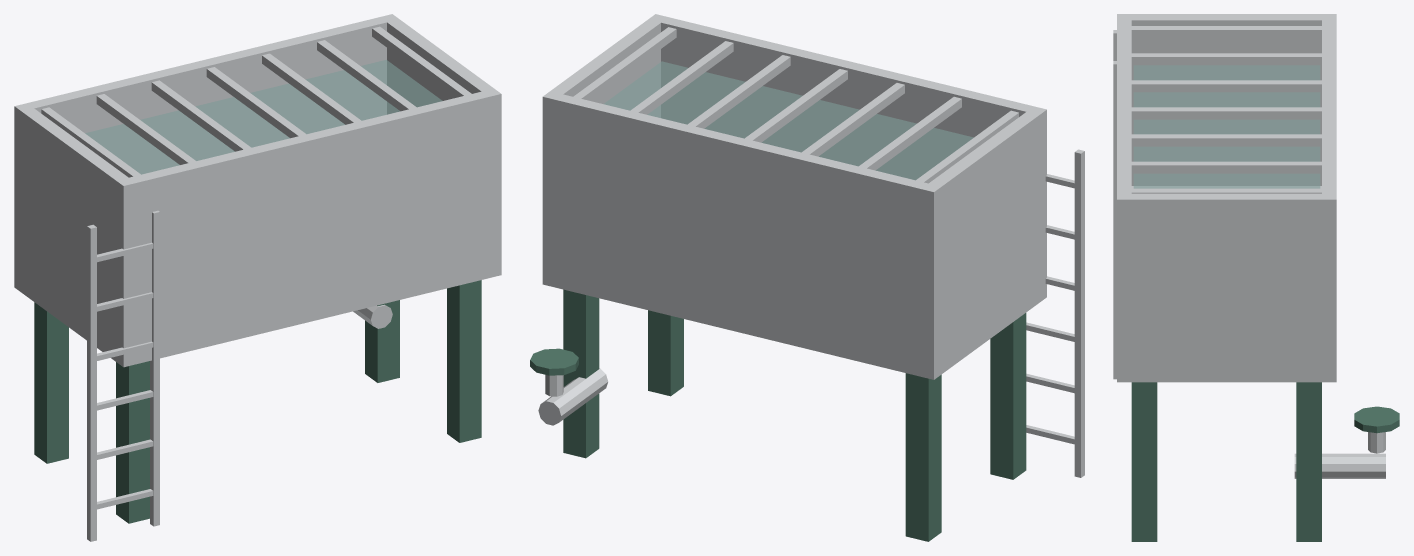
Rendered from botanical-glasshouse-and-palm-house-botanical-glasshou-c6139390__38545.glb.
The picture shows the model from 3 angles, left to right: view 1: azimuth 30°, elevation 25°; view 2: azimuth 150°, elevation 25°; view 3: azimuth 270°, elevation 25°; orthographic projection. The views are drawn at different scales.
Visible parts, largest first — view 1: botanical-glasshouse-and-palm-house-water-tank; view 2: botanical-glasshouse-and-palm-house-water-tank, handwheel-tank/iron; view 3: botanical-glasshouse-and-palm-house-water-tank, handwheel-tank/iron, handwheel-tank/steel.
Boxes of the visible parts, x1,y1,x2,y2 form: botanical-glasshouse-and-palm-house-water-tank: (14,14,501,541); botanical-glasshouse-and-palm-house-water-tank: (538,14,1084,541); handwheel-tank/iron: (530,348,578,375); botanical-glasshouse-and-palm-house-water-tank: (1113,14,1385,541); handwheel-tank/iron: (1354,406,1399,433); handwheel-tank/steel: (1368,432,1385,453).
Bounding box in the file's own units: 2.62 × 2.1 × 1.56.
